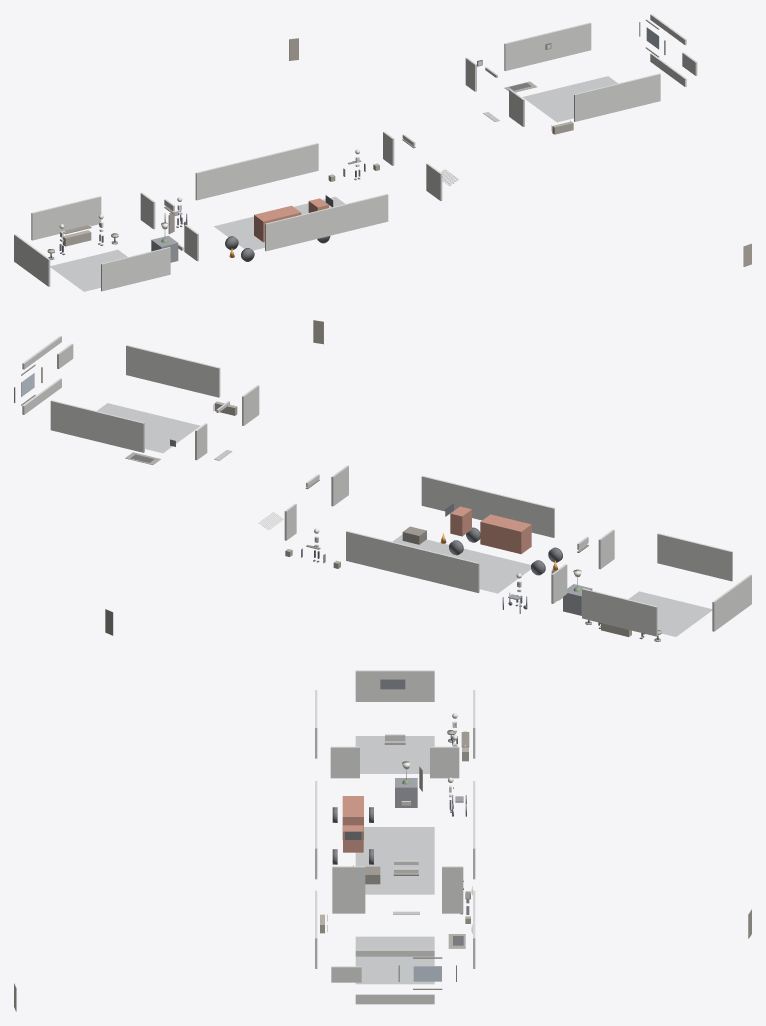
The picture shows the model from 3 angles, top to bottom: view 1: azimuth 30°, elevation 25°; view 2: azimuth 150°, elevation 25°; view 3: azimuth 270°, elevation 25°; orthographic projection. The views are drawn at different scales.
Parts seen in each view (by area): view 1: S02_wall_north, S02_wall_south, S03_wall_north, S03_wall_south, S01_wall_south, S01_wall_north, S03_floor, S01_floor, S02_floor, S01_wall_west, van_body, S02_wall_e_s; view 2: S02_wall_north, S02_wall_south, S03_wall_south, S03_wall_north, S01_wall_south, S01_wall_north, S02_floor, S03_floor, S01_floor, van_body, S01_wall_west, van_cab (+2 smaller); view 3: S02_floor, S03_floor, S01_floor, S01_wall_west, S03_wall_w_s, S01_wall_east_s, S01_wall_east_n, S03_wall_e_low, S03_wall_w_n, van_body, S03_wall_e_high, stair_railing.
Part boxes in pixels (x1=…): S02_wall_north: x1=195, y1=143, x2=318, y2=200; S02_wall_south: x1=265, y1=194, x2=388, y2=251; S03_wall_north: x1=504, y1=22, x2=591, y2=70; S03_wall_south: x1=574, y1=73, x2=660, y2=121; S01_wall_south: x1=101, y1=247, x2=170, y2=291; S01_wall_north: x1=31, y1=196, x2=101, y2=240; S03_floor: x1=522, y1=76, x2=617, y2=122; S01_floor: x1=50, y1=249, x2=127, y2=291; S02_floor: x1=214, y1=196, x2=344, y2=250; S01_wall_west: x1=14, y1=234, x2=50, y2=286; van_body: x1=254, y1=205, x2=301, y2=242; S02_wall_e_s: x1=426, y1=163, x2=442, y2=200; S02_wall_north: x1=346, y1=531, x2=479, y2=592; S02_wall_south: x1=421, y1=475, x2=554, y2=537; S03_wall_south: x1=126, y1=345, x2=220, y2=397; S03_wall_north: x1=50, y1=400, x2=144, y2=452; S01_wall_south: x1=657, y1=533, x2=732, y2=581; S01_wall_north: x1=582, y1=588, x2=657, y2=636; S02_floor: x1=392, y1=534, x2=530, y2=593; S03_floor: x1=97, y1=403, x2=200, y2=453; S01_floor: x1=628, y1=591, x2=712, y2=636; van_body: x1=480, y1=514, x2=531, y2=554; S01_wall_west: x1=712, y1=574, x2=751, y2=631; van_cab: x1=450, y1=506, x2=471, y2=536; S02_floor: x1=355, y1=827, x2=434, y2=894; S03_floor: x1=355, y1=936, x2=434, y2=984; S01_floor: x1=355, y1=736, x2=434, y2=773; S01_wall_west: x1=355, y1=670, x2=434, y2=701; S03_wall_w_s: x1=332, y1=866, x2=365, y2=897; S01_wall_east_s: x1=330, y1=746, x2=359, y2=778; S01_wall_east_n: x1=430, y1=746, x2=459, y2=778; S03_wall_e_low: x1=355, y1=994, x2=434, y2=1004; S03_wall_w_n: x1=442, y1=866, x2=463, y2=897; van_body: x1=342, y1=796, x2=363, y2=839; S03_wall_e_high: x1=355, y1=949, x2=434, y2=956; stair_railing: x1=395, y1=778, x2=417, y2=807.
Size of what is drawn, in the model's own units: 37.1 by 6.35 by 32.7.
